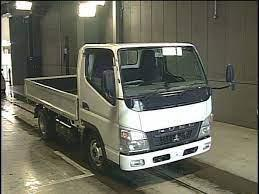Truck: (25, 41, 213, 174)
